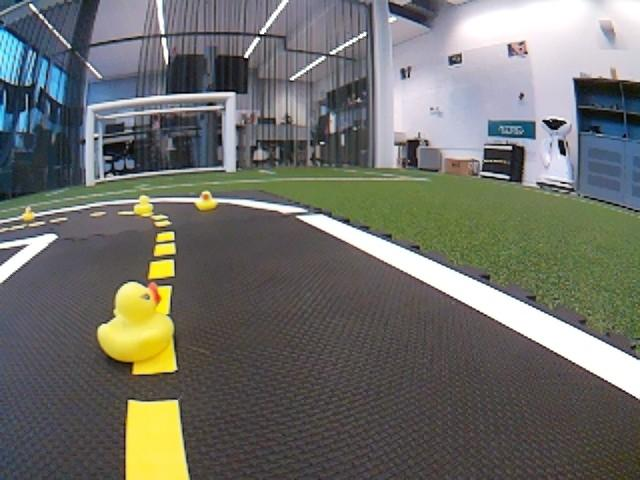Duckies: (95, 280, 176, 369), (192, 189, 220, 212), (133, 195, 155, 215), (21, 206, 38, 221)
